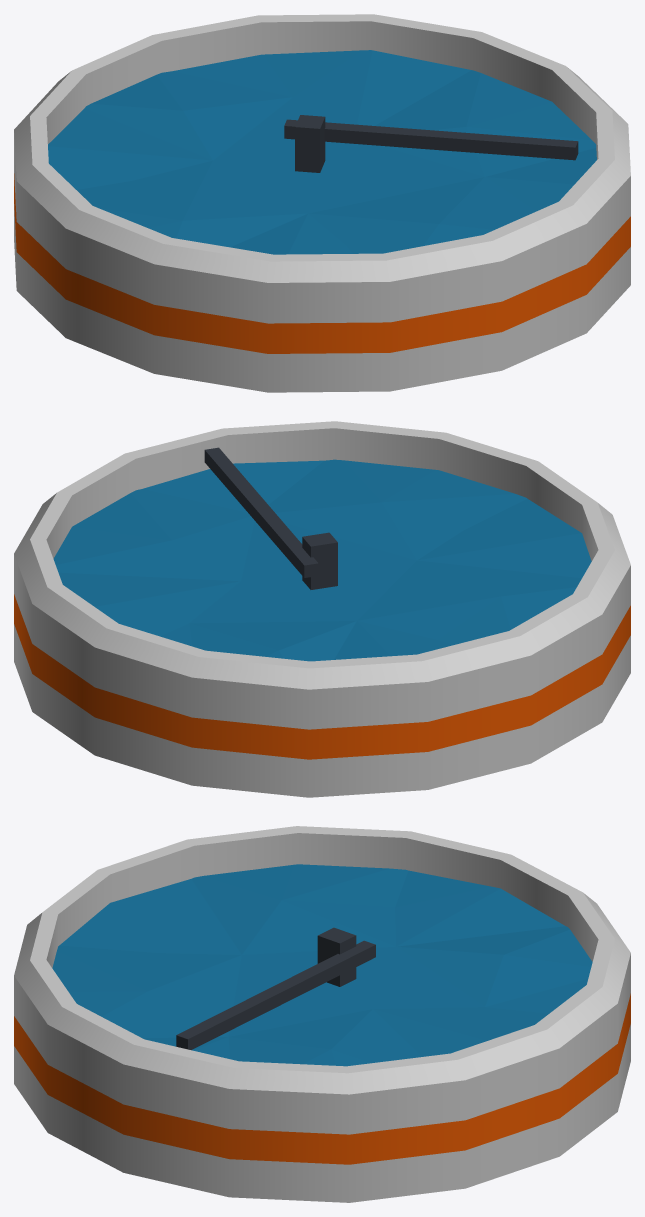
File: WaterPool.FBX
3 renders of one model, top to bottom at view 1: azimuth 30°, elevation 25°; view 2: azimuth 150°, elevation 25°; view 3: azimuth 270°, elevation 25°, orthographic.
Parts seen in each view (by area): view 1: WaterPool; view 2: WaterPool; view 3: WaterPool.
Part boxes in pixels (left/top/right/bottom): WaterPool: left=14, top=14, right=630, bottom=392; WaterPool: left=14, top=421, right=630, bottom=797; WaterPool: left=14, top=826, right=630, bottom=1202.
Size of the model in its own units: 18.53 by 4.46 by 18.53.
